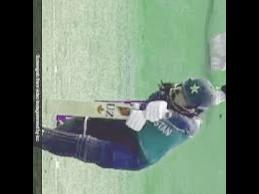batsman: (36, 50, 220, 184)
